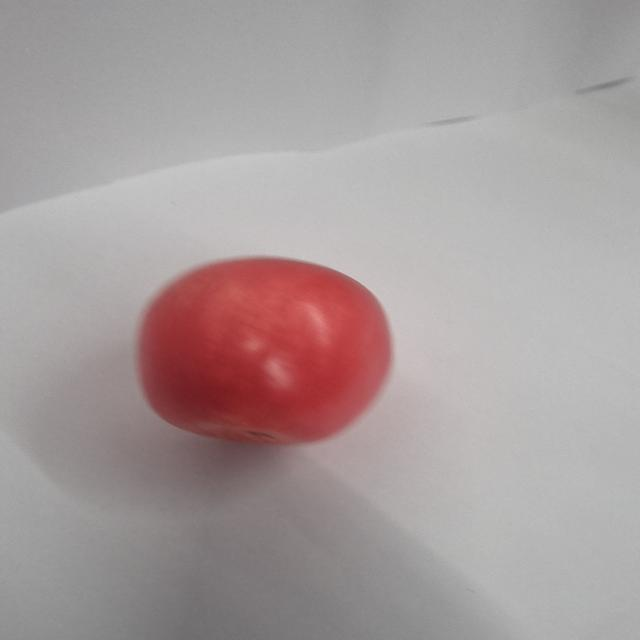apple: (136, 256, 394, 447)
